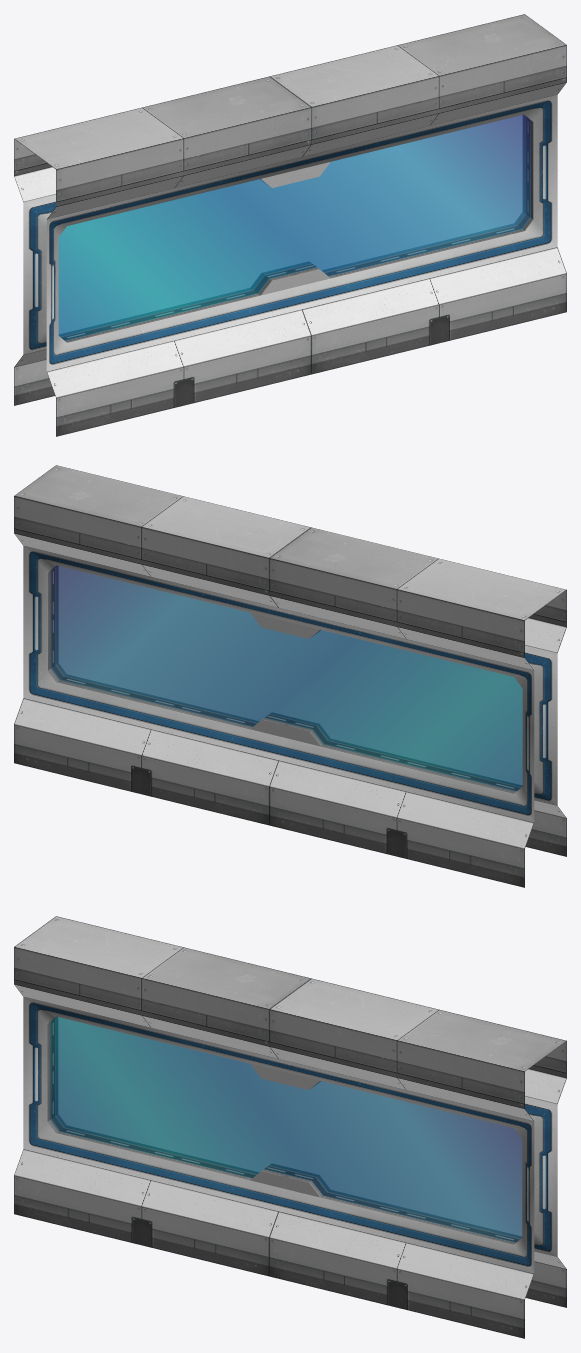
Rendered from Wall_Window_Long_01_A.FBX.
3 views of the same model, one above another, from view 1: azimuth 30°, elevation 25°; view 2: azimuth 150°, elevation 25°; view 3: azimuth 330°, elevation 25° (orthographic).
Visible parts, largest first — view 1: Wall_Window_Long_01_A; view 2: Wall_Window_Long_01_A; view 3: Wall_Window_Long_01_A.
Part boxes in pixels (bbox=[...]): Wall_Window_Long_01_A: bbox=[14, 14, 566, 436]; Wall_Window_Long_01_A: bbox=[14, 465, 566, 887]; Wall_Window_Long_01_A: bbox=[14, 916, 566, 1338].
Size of the model in its own units: 280 by 140 by 40.03.
